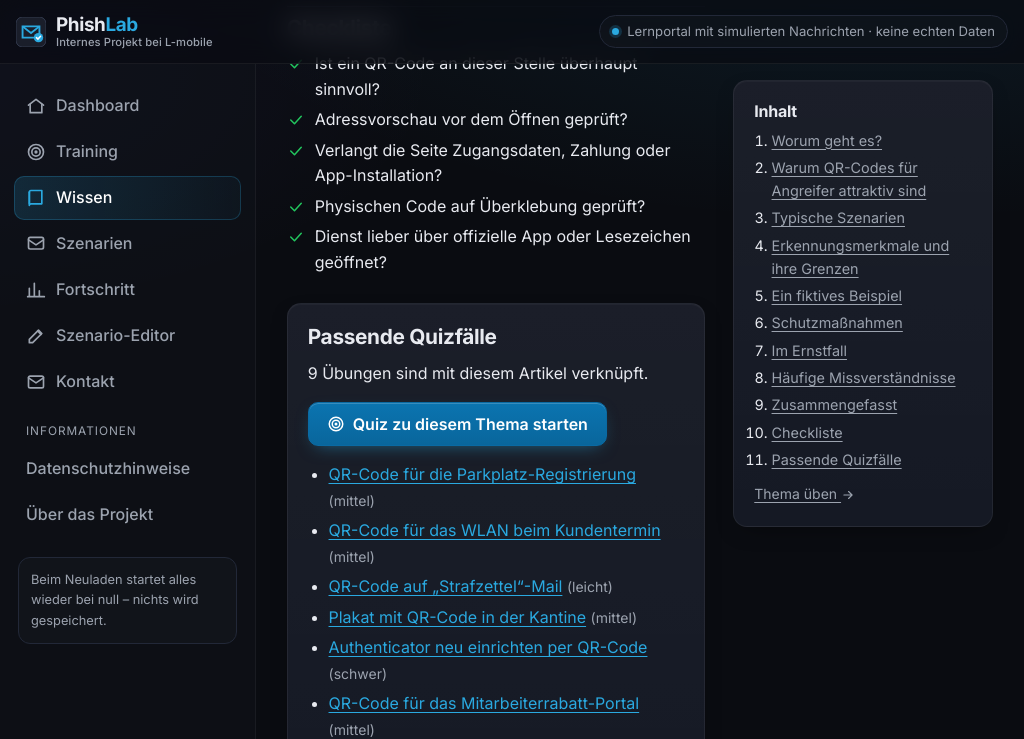
Test: Vertikaler Ablauf › Artikel startet thematische Runde
(page scrolled)
Click the link "Quiz zu diesem Thema starten" at (457, 424), box [308,402,607,446]
(page scrolled)
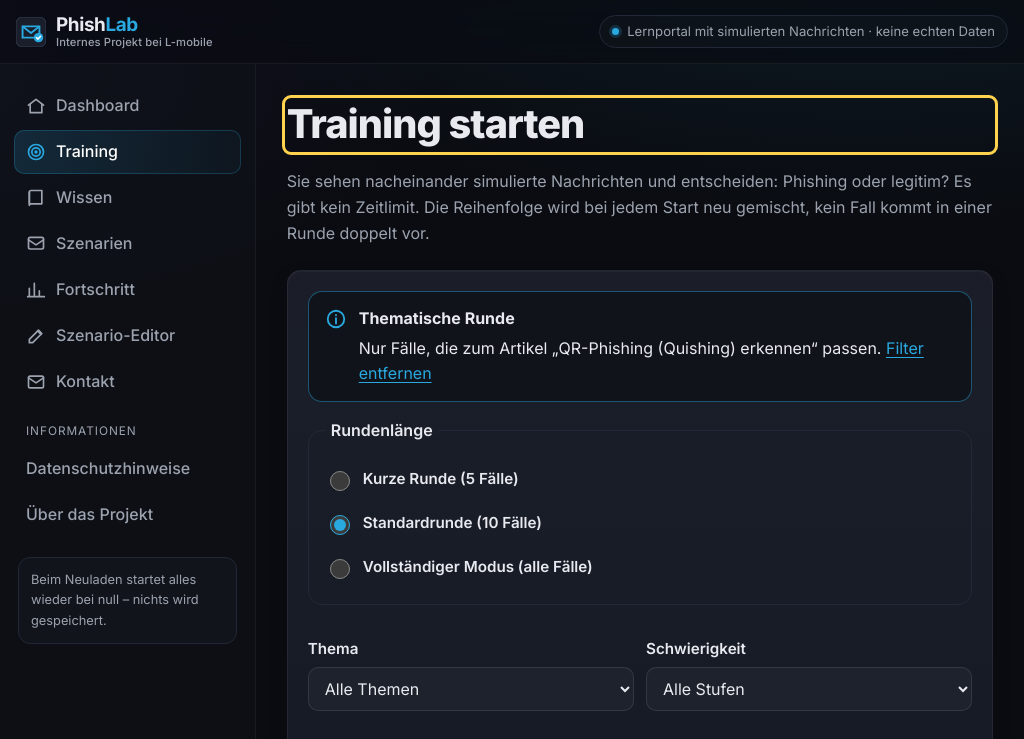
Check: the text "Thematische Runde" is shown, box [359,308,515,328]
